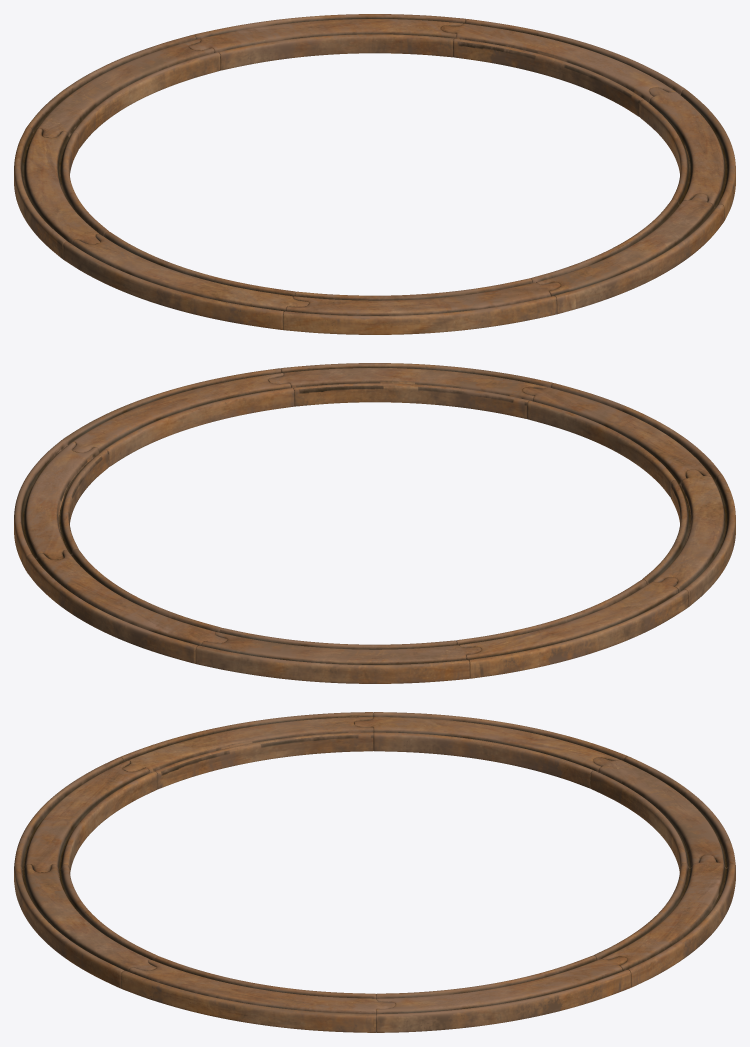
Rendered from traintrack.fbx.
3 views of the same model, one above another, from view 1: azimuth 30°, elevation 25°; view 2: azimuth 150°, elevation 25°; view 3: azimuth 270°, elevation 25° (orthographic).
Parts seen in each view (by area): view 1: Circle.015; view 2: Circle.015; view 3: Circle.015.
Part boxes in pixels (bbox=[...]): Circle.015: bbox=[14, 14, 735, 334]; Circle.015: bbox=[14, 363, 735, 683]; Circle.015: bbox=[14, 712, 735, 1032].
Size of the model in its own units: 833 by 22.32 by 833.
